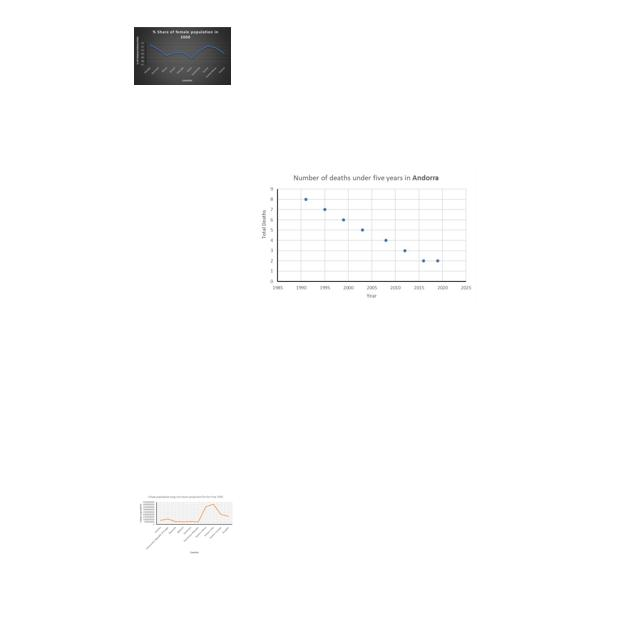Graph: (256, 170, 477, 305), (138, 494, 234, 556), (134, 27, 231, 85)
